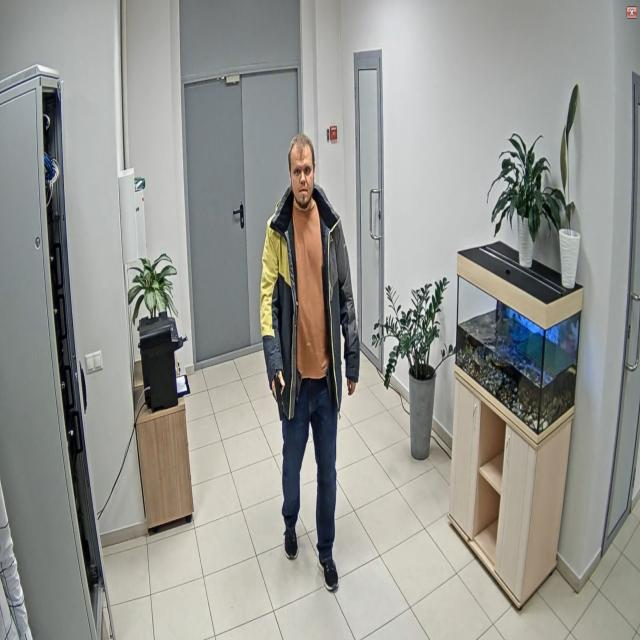-Gun: (274, 378, 285, 421)
